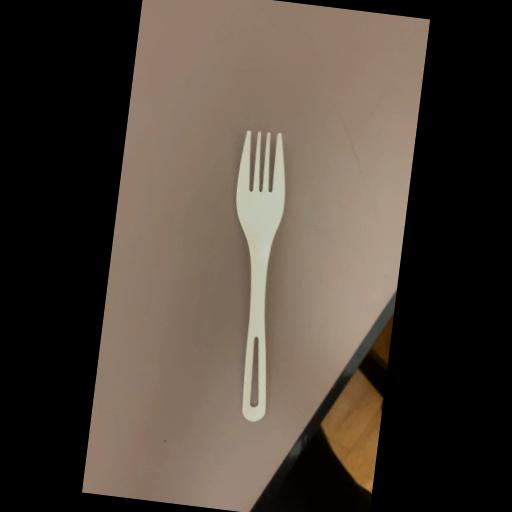utensil: (204, 129, 304, 427)
